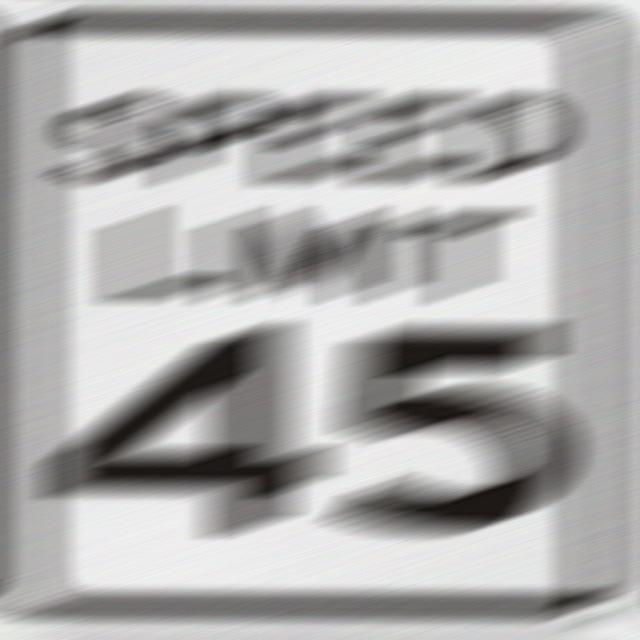speedLimit45: (0, 15, 634, 617)
